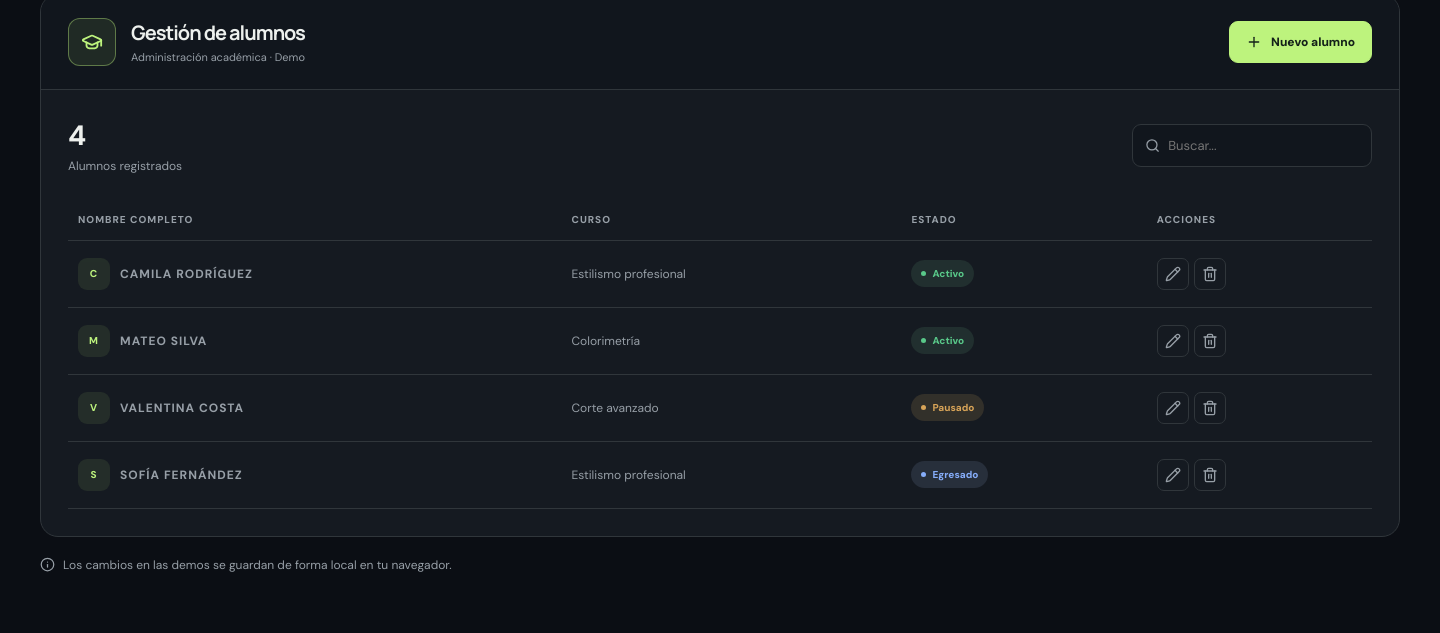
Test: LabPage — students demo › deletes only the selected student after confirmation
(page scrolled)
Click the button named "Eliminar: Camila Rodríguez". click: point(1210, 274)
box: [1194,258,1226,290]
(page scrolled)
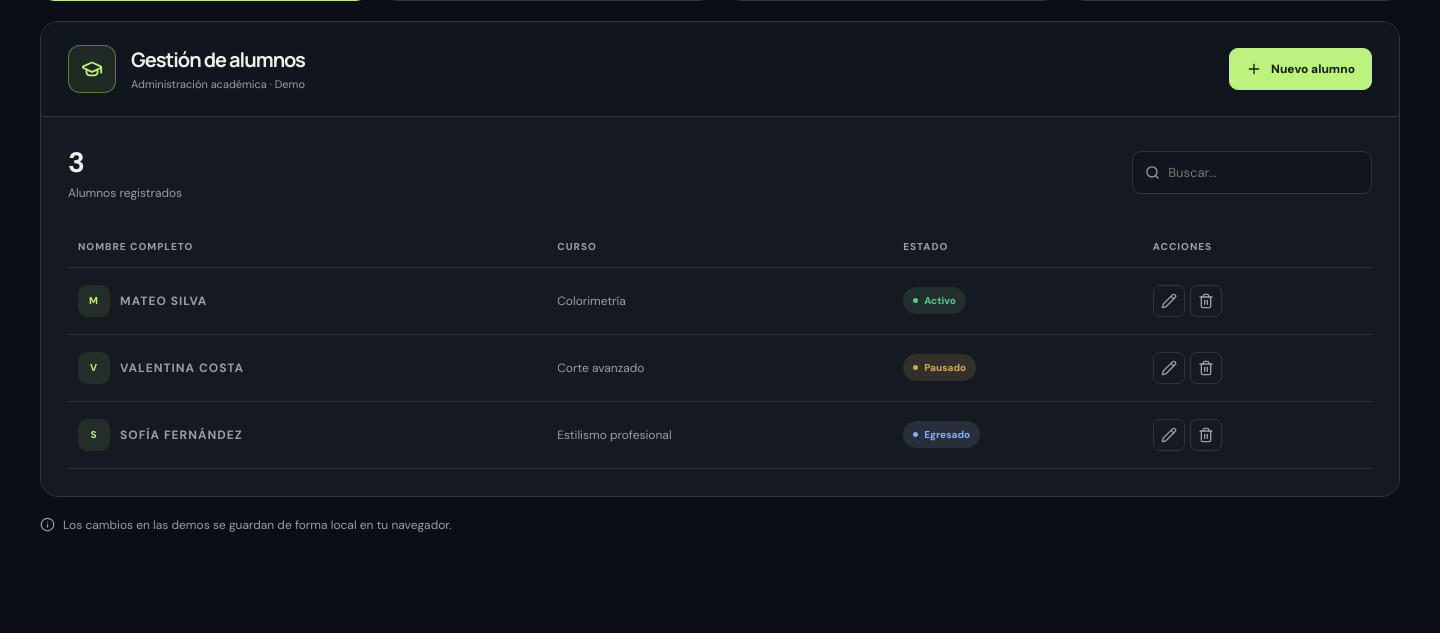
Expected: the text "Mateo Silva" is shown, [120,293,207,309]
Expected: the text "Camila Rodríguez" is gone
